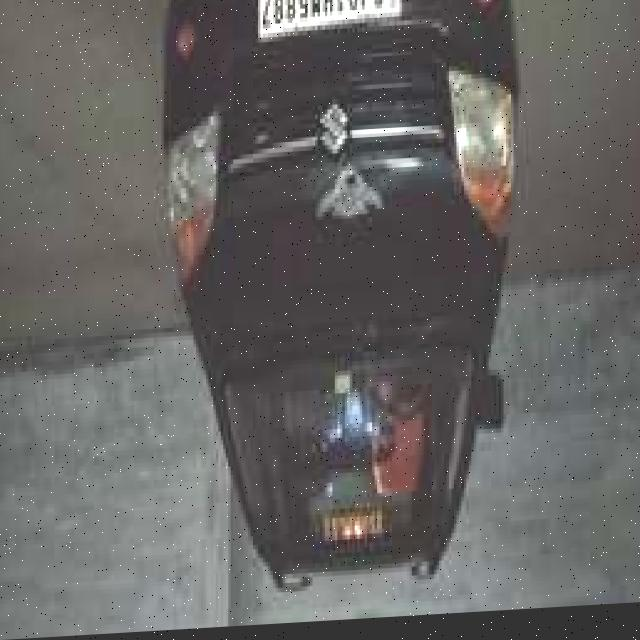plate: (260, 0, 402, 46)
